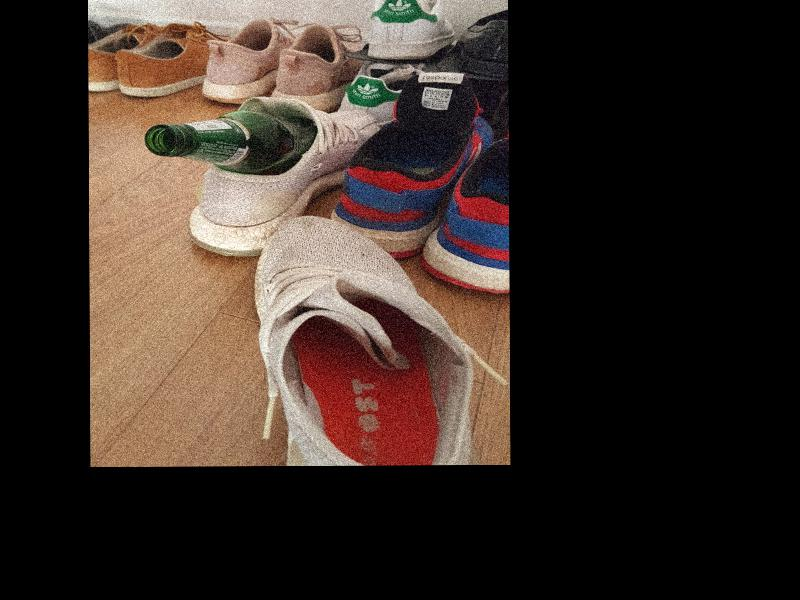Beer: (144, 111, 317, 175)
